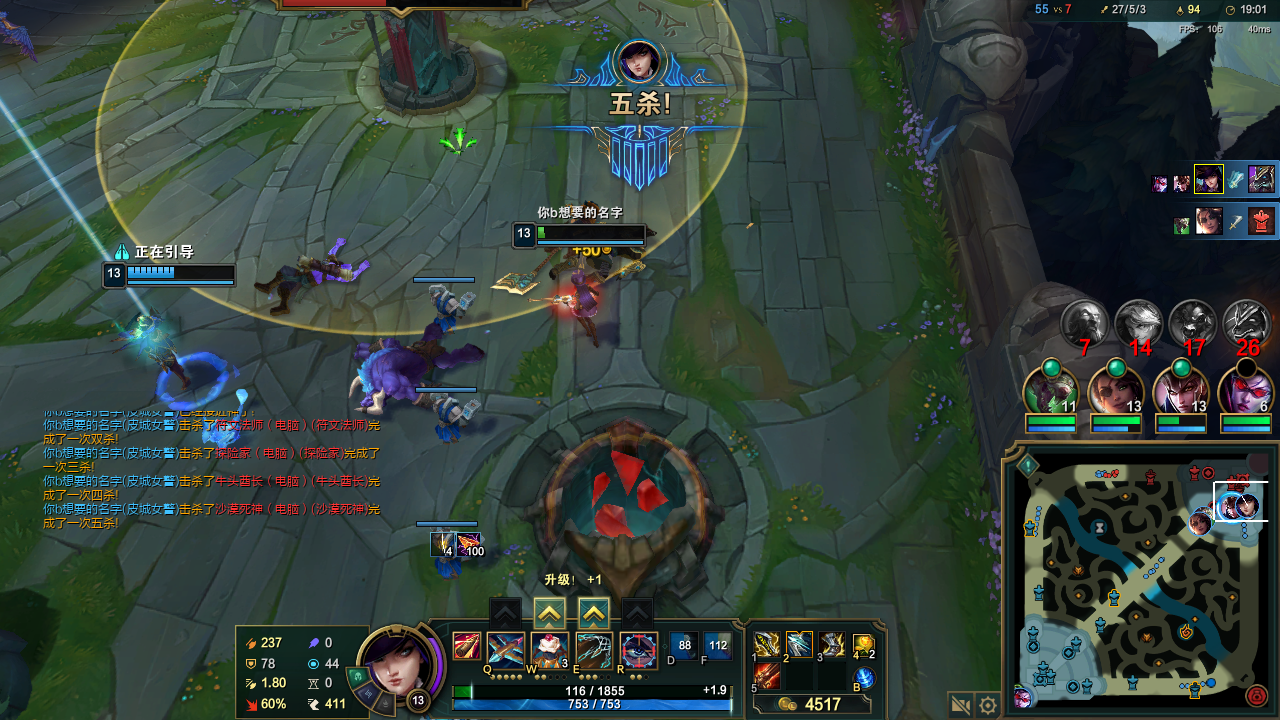DFFYT: (290, 3, 496, 117)
KF: (787, 636, 806, 649)
Shenji: (579, 601, 606, 621)
Tuijianshengji: (541, 605, 561, 622)
WFXB: (420, 395, 482, 444), (415, 287, 480, 330), (433, 558, 463, 577)
